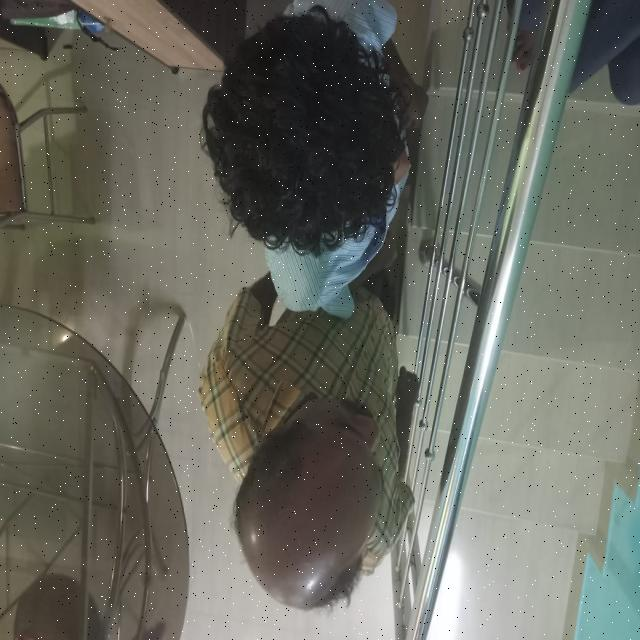humans: (191, 0, 428, 319), (195, 300, 426, 619)
